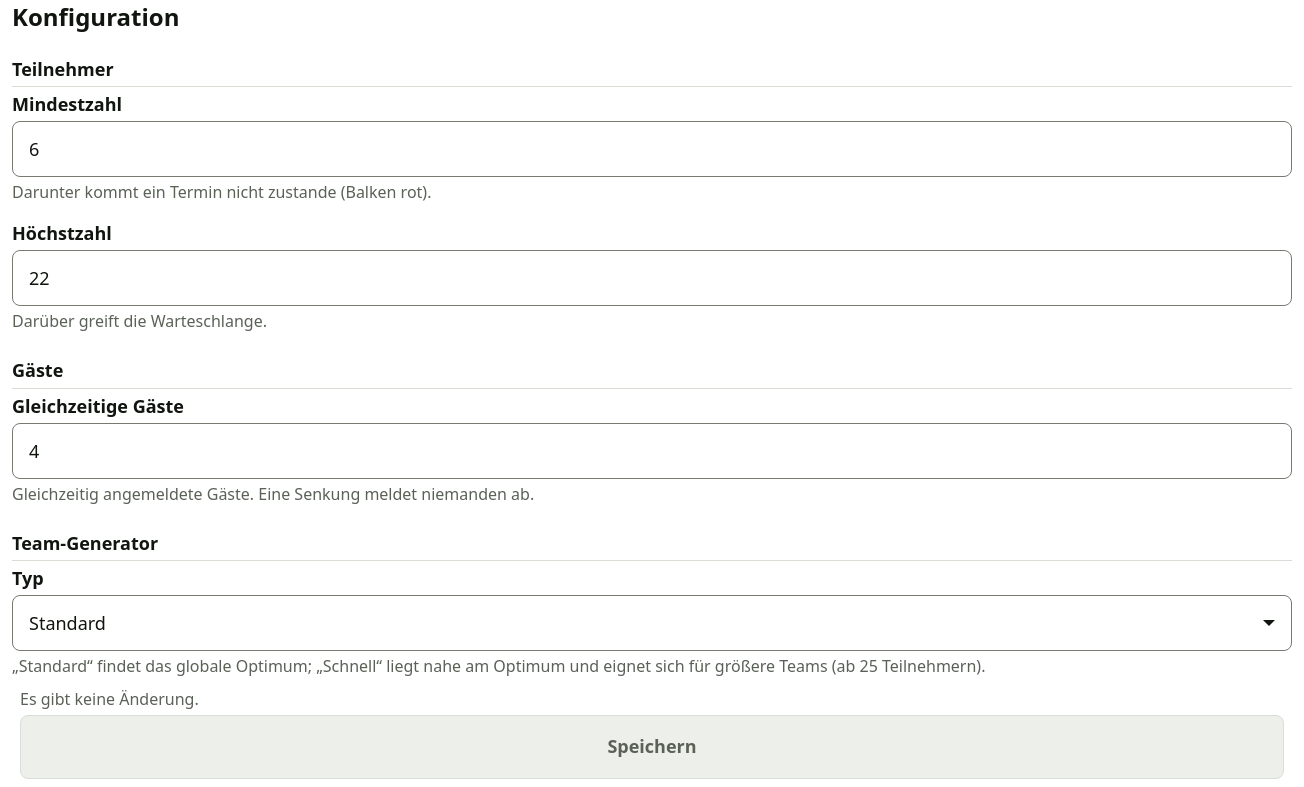
AdminKonfiguration – Speichern › nach dem Speichern zeigt das Formular „Gespeichert.“ mit dem neuen Stand (neue version) und der Fokus liegt auf „Speichern“
Replace the text in the field with test id "admin-konfig-anzGuests" with "6": {"x": 652, "y": 451} [12,423,1292,479]
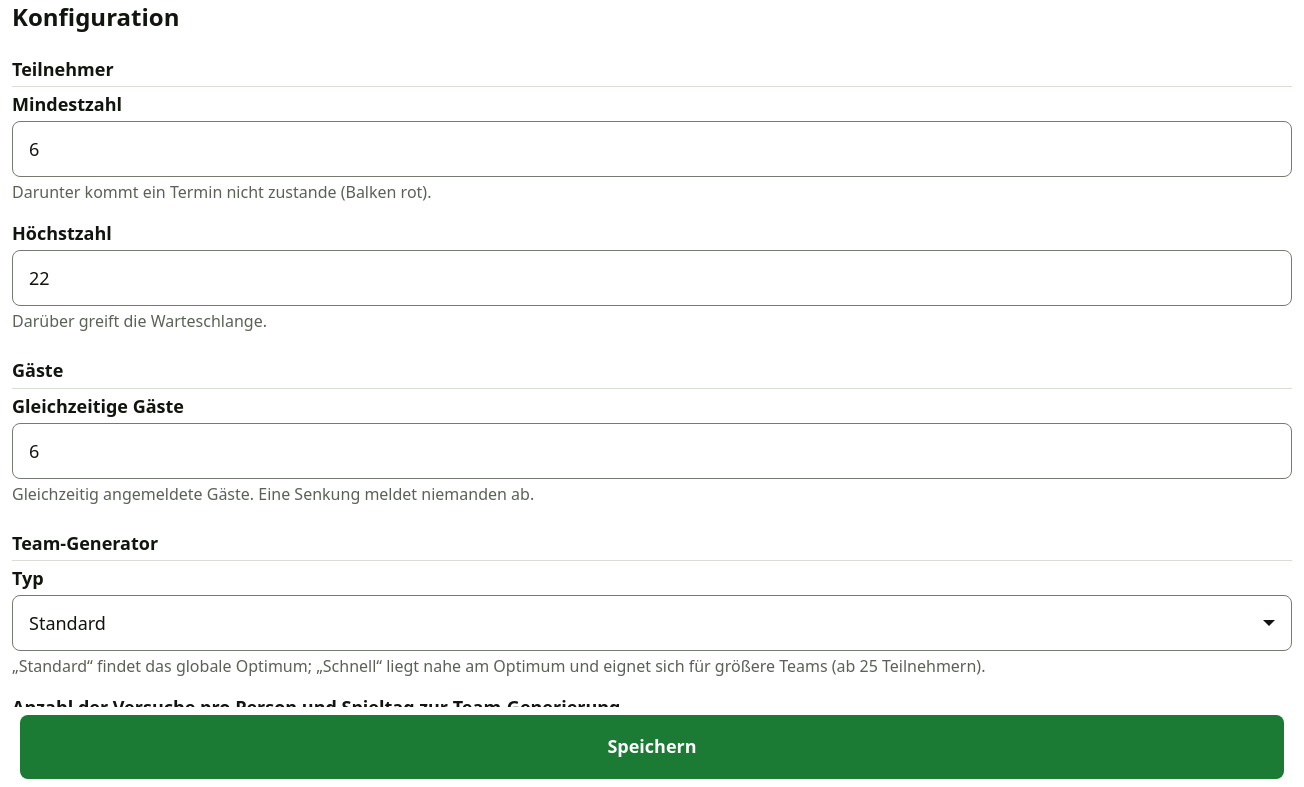
Click the button with test id "admin-konfig-speichern": {"x": 652, "y": 747} [20,715,1284,779]
(page scrolled)
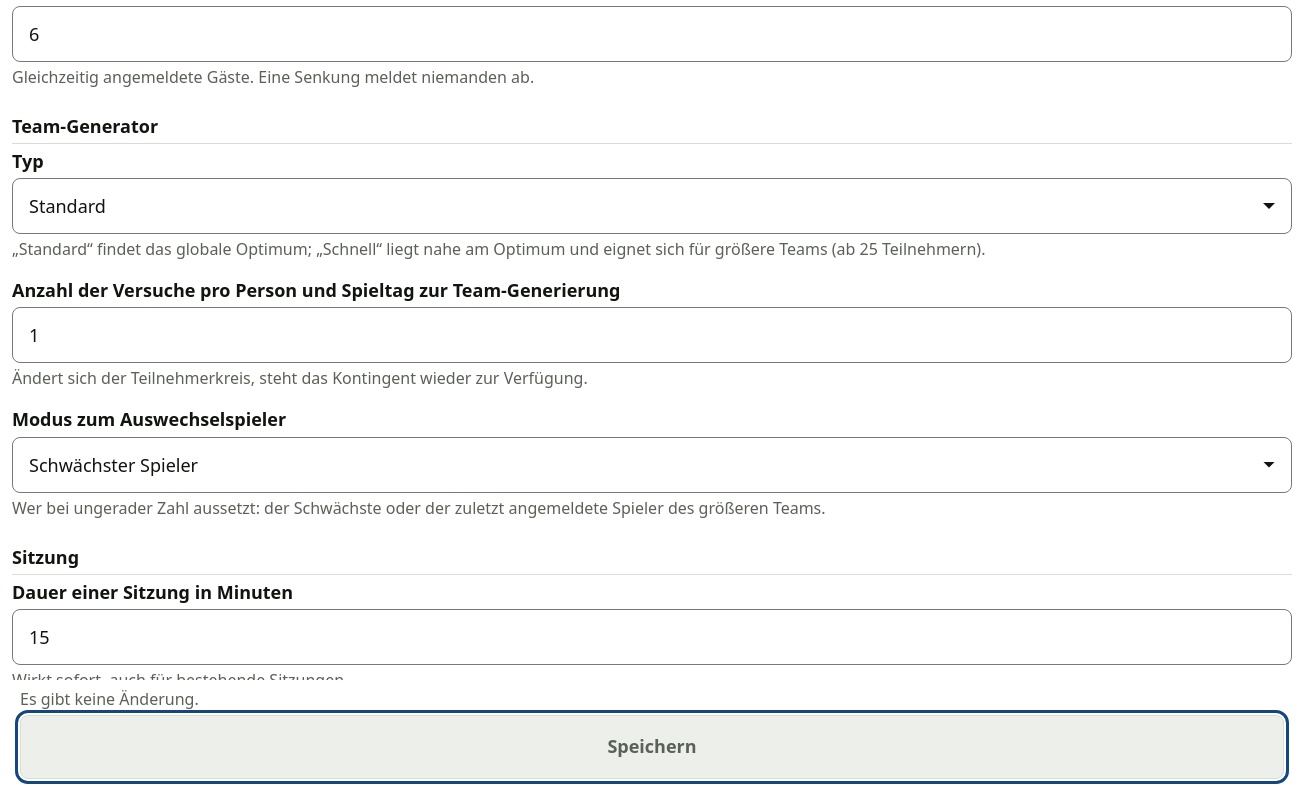
Check: the field with test id "admin-konfig-anzGuests" holds "6", box [12,6,1292,62]
